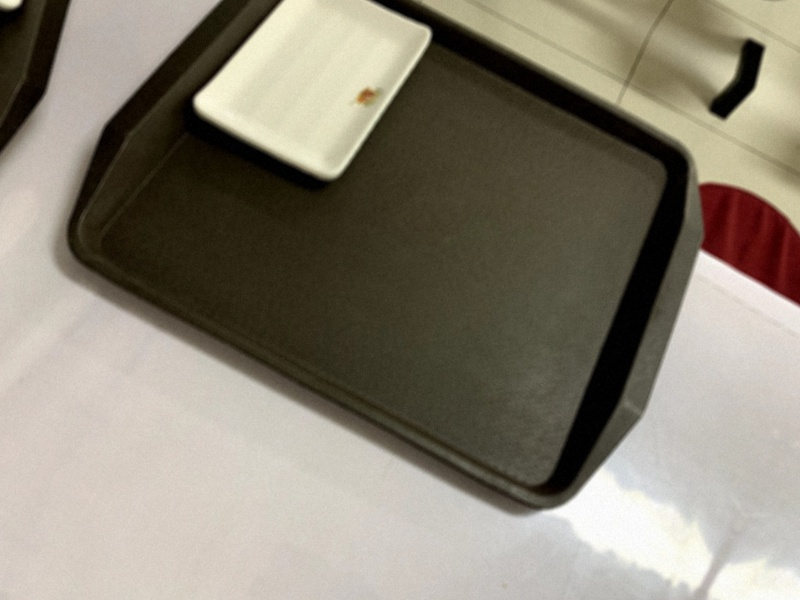dish4: (179, 0, 442, 206)
